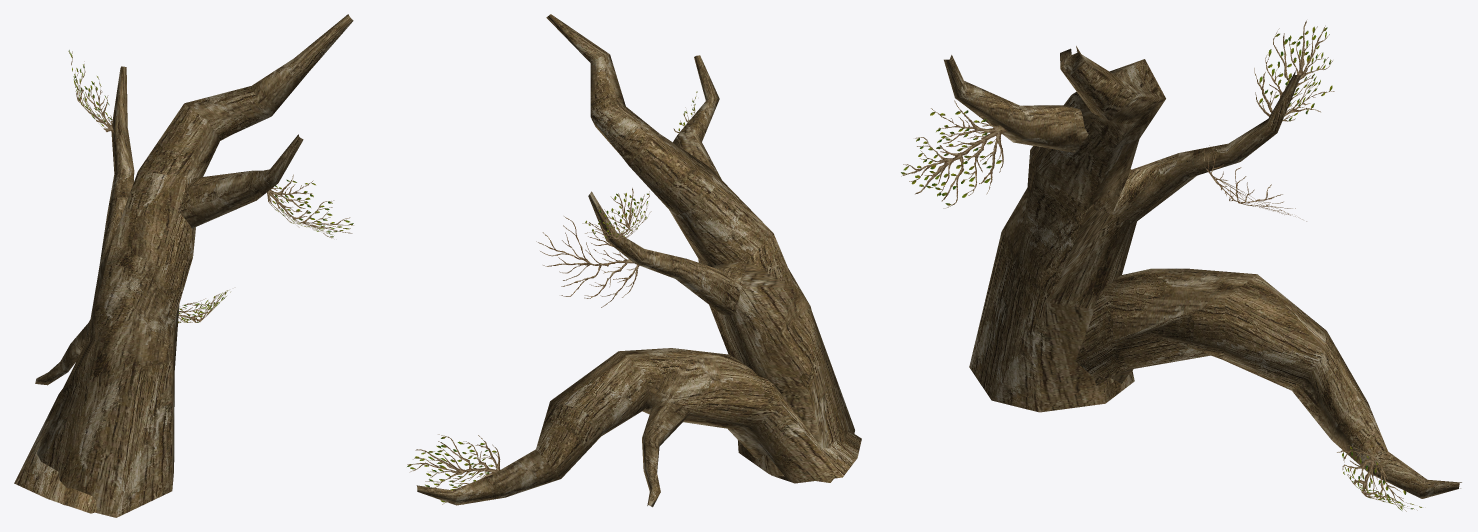
The model's file is w_cd_brhwood04_01.glb.
The picture shows the model from 3 angles, left to right: view 1: azimuth 30°, elevation 25°; view 2: azimuth 150°, elevation 25°; view 3: azimuth 270°, elevation 25°; orthographic projection. The views are drawn at different scales.
Visible parts, largest first — view 1: w_cd_brhWood04_01, w_cd_brhWood04_02; view 2: w_cd_brhWood04_01, w_cd_brhWood04_02, w_cd_brhWood04_03; view 3: w_cd_brhWood04_01, w_cd_brhWood04_02, w_cd_brhWood04_03.
Boxes of the visible parts, x1=… form: w_cd_brhWood04_01: x1=14, y1=14, x2=353, y2=517; w_cd_brhWood04_02: x1=68, y1=50, x2=353, y2=323; w_cd_brhWood04_01: x1=416, y1=14, x2=861, y2=507; w_cd_brhWood04_02: x1=407, y1=91, x2=697, y2=504; w_cd_brhWood04_03: x1=536, y1=215, x2=639, y2=307; w_cd_brhWood04_01: x1=944, y1=46, x2=1461, y2=498; w_cd_brhWood04_02: x1=901, y1=20, x2=1422, y2=511; w_cd_brhWood04_03: x1=1203, y1=145, x2=1306, y2=221.
Size of the model in its own units: 33.95 by 38.85 by 40.57.
3 materials, 3 textured.
